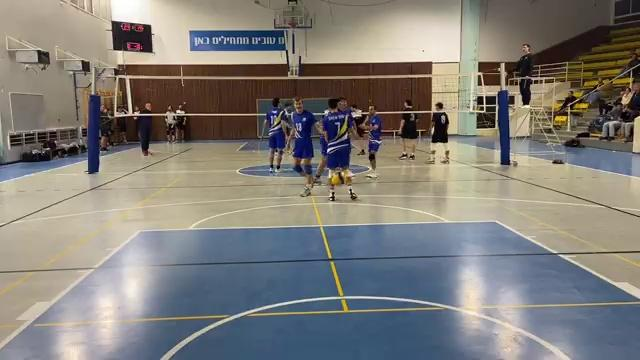ball: (330, 170, 346, 188)
